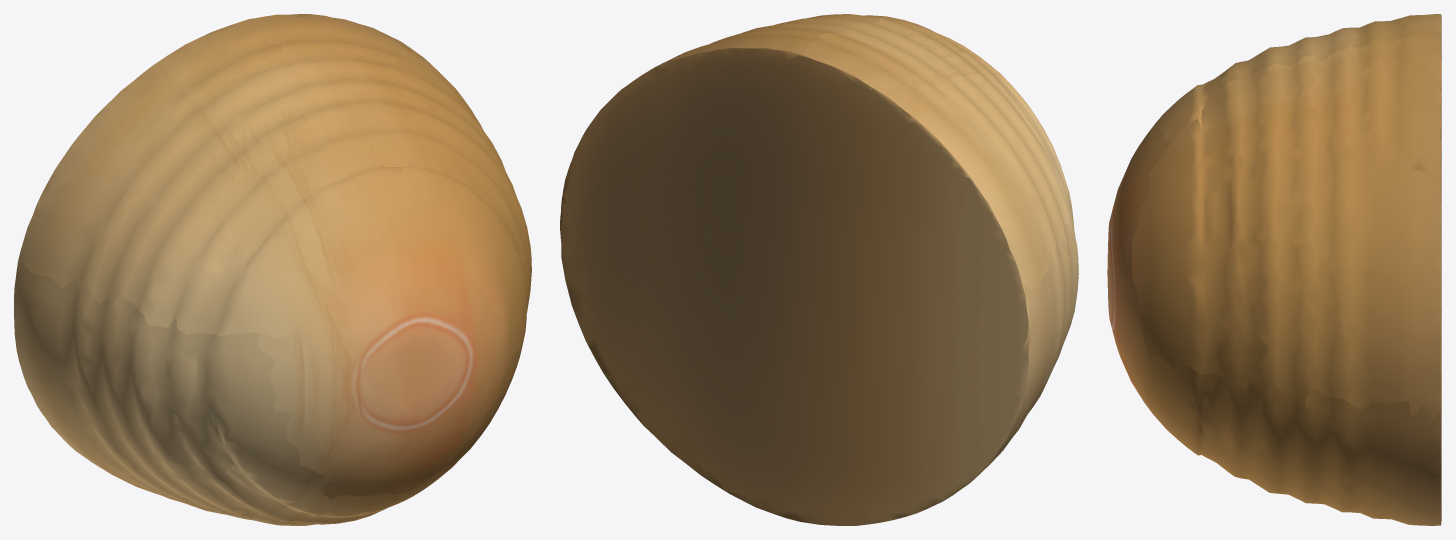
3 renders of one model, left to right at view 1: azimuth 30°, elevation 25°; view 2: azimuth 150°, elevation 25°; view 3: azimuth 270°, elevation 25°, orthographic.
Visible parts, largest first — view 1: world; view 2: world; view 3: world.
Boxes of the visible parts, box(x1,y1,x2,y2) form: world: box(14, 14, 531, 525); world: box(560, 14, 1078, 525); world: box(1107, 14, 1441, 525).
Bounding box in the file's own units: 0.2 × 0.1906 × 0.1241.
Materials: 1 (1 with a texture image).
